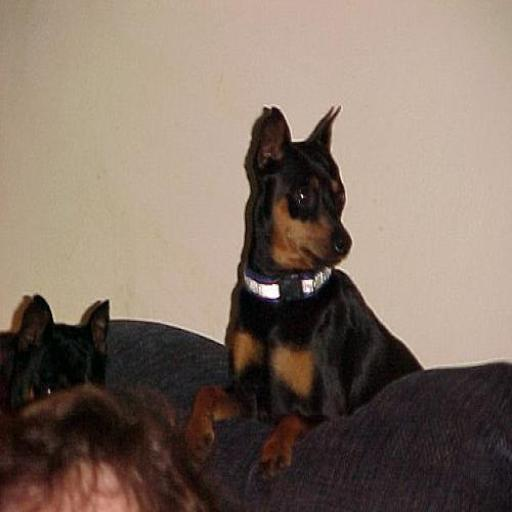dog_face: (250, 97, 351, 272)
